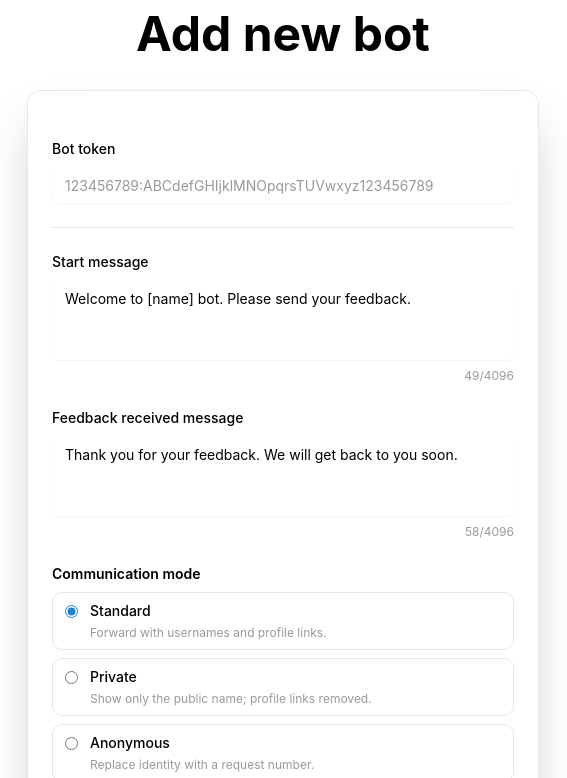
Scenario: add_bot +page.svelte › validates bot token format and keeps save disabled when invalid
The width and height of the screenshot is (567, 778).
Step 1. Type "invalid" into the field labelled "Bot token" → (283, 185), box [52,167,514,203]
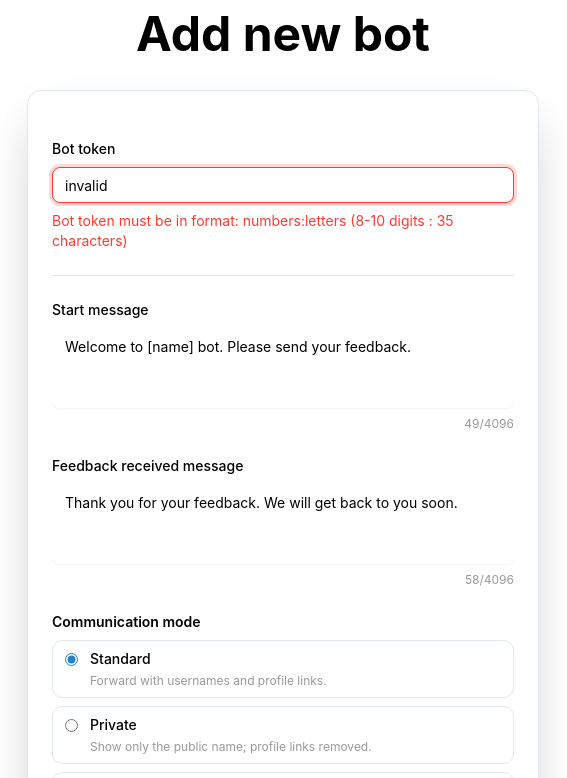
Check: the message shows "Bot token must be in format", box [52,212,454,249]
